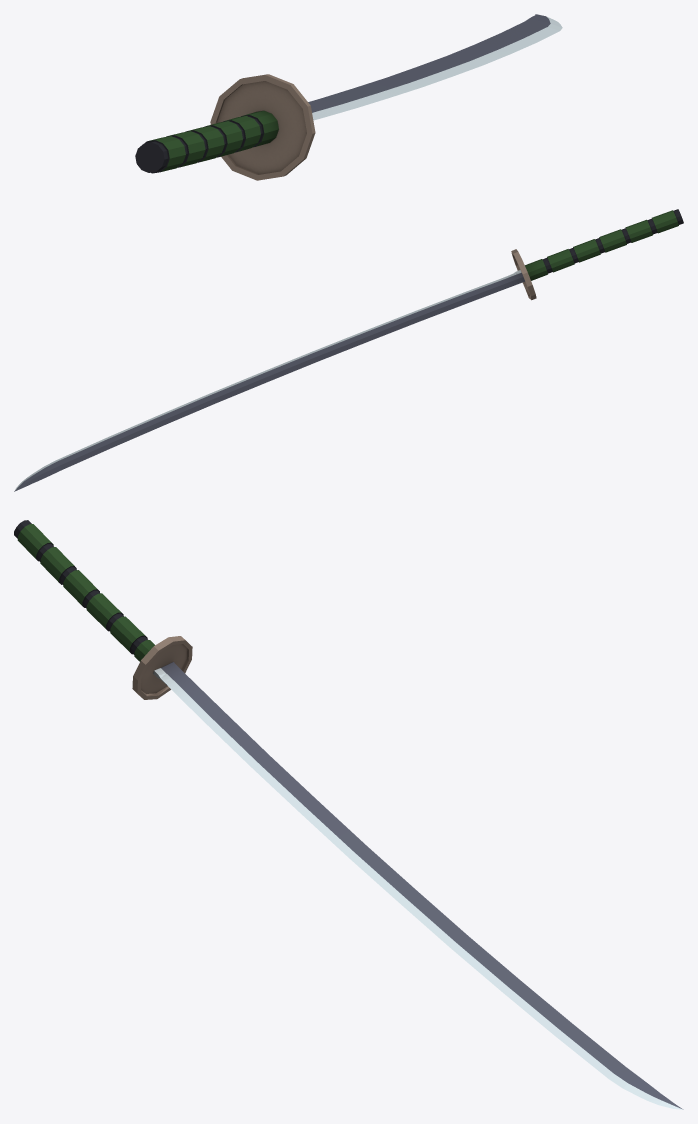
File: sword_animation.glb
The picture shows the model from 3 angles, top to bottom: view 1: azimuth 30°, elevation 25°; view 2: azimuth 150°, elevation 25°; view 3: azimuth 270°, elevation 25°; orthographic projection. The views are drawn at different scales.
Visible parts, largest first — view 1: Cylinder.001; view 2: Cylinder.001; view 3: Cylinder.001.
Part boxes in pixels (left/top/right/bottom): Cylinder.001: left=135, top=14, right=562, bottom=180; Cylinder.001: left=14, top=209, right=683, bottom=491; Cylinder.001: left=14, top=520, right=683, bottom=1109.
Size of the model in its own units: 0.8513 by 0.3988 by 0.8128.
Materials: 1 (1 with a texture image).
